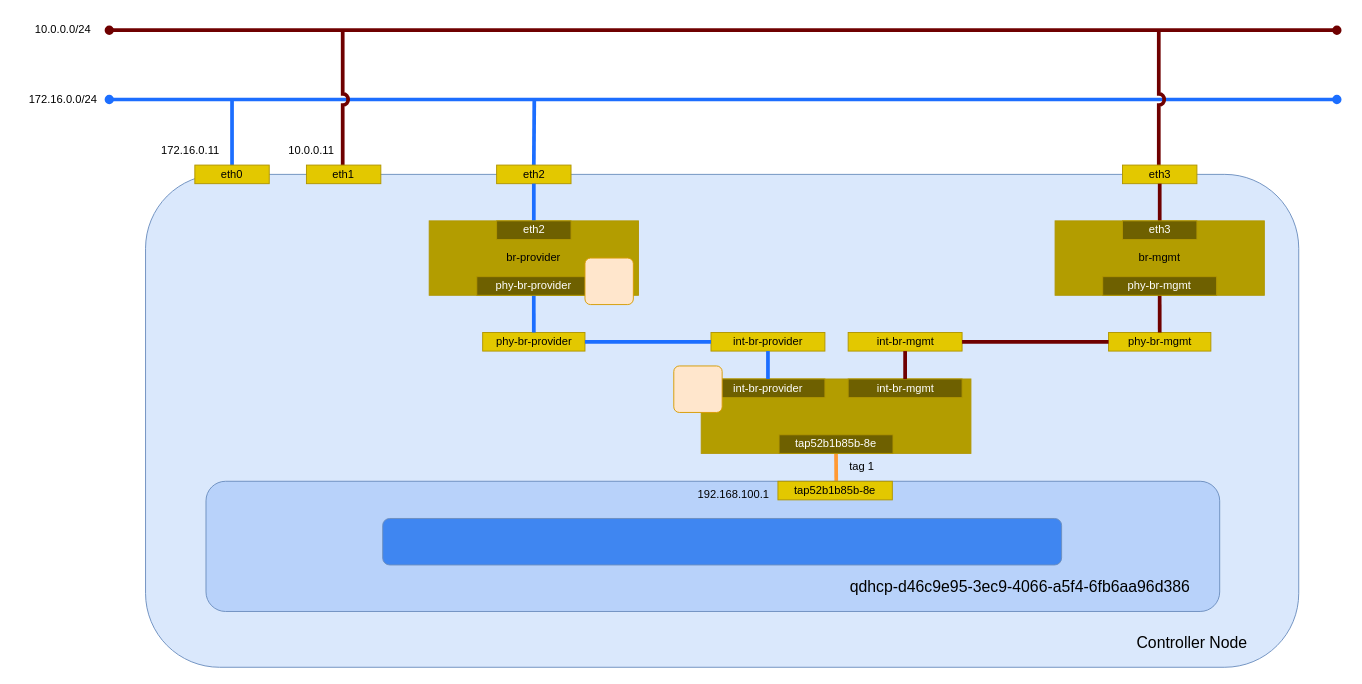
This 1362x684 diagram has some shape labels left out. The shapes that lost their labels are listed below. From the top down, each one's box as (x1, y1, x2, y2) in pixels, then its label:
(584, 257, 633, 305): tag 100 ↑ tag 1
(673, 365, 722, 412): tag 100 ↓ tag 1
(700, 378, 971, 453): br-int
(382, 518, 1062, 565): DHCP agent
